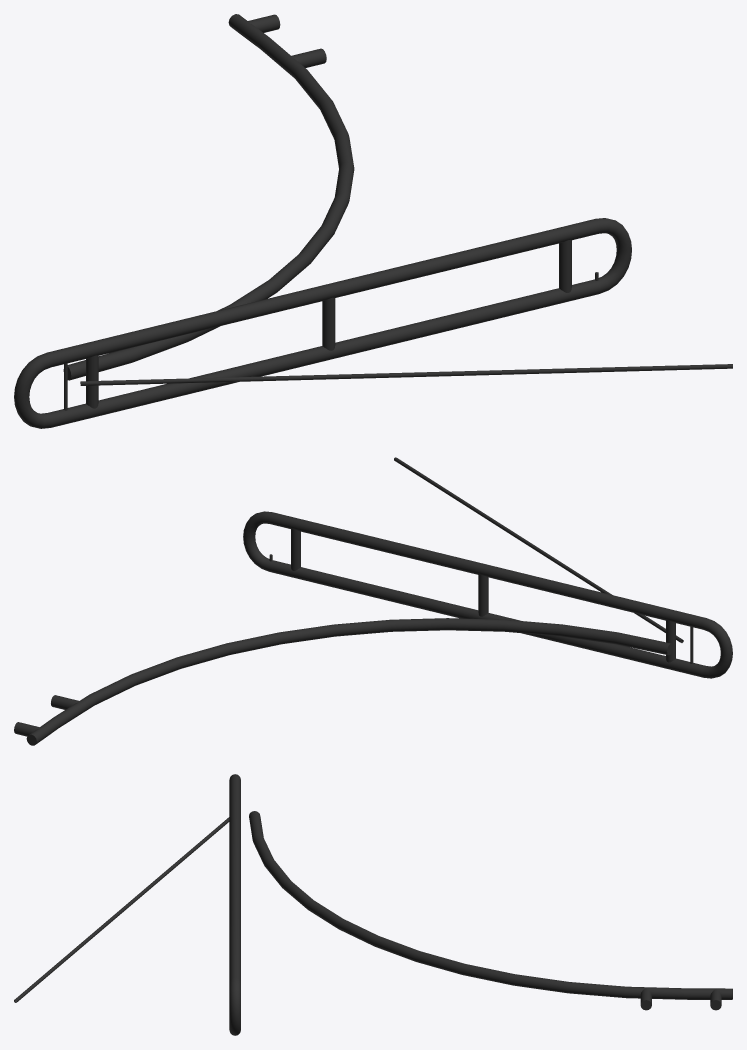
Rendered from Urbi 3_x2390_y-1051_ae_h11200.obj.
3 views of the same model, one above another, from view 1: azimuth 30°, elevation 25°; view 2: azimuth 150°, elevation 25°; view 3: azimuth 270°, elevation 25° (orthographic). The views are drawn at different scales.
Visible parts, largest first — view 1: Querträger_einfach_Querträger_einfach.002, Bogenausleger_Bogenausleger.003, Spannseil_Spannseil.002, Querträgerstreben_Cylinder.006; view 2: Querträger_einfach_Querträger_einfach.002, Bogenausleger_Bogenausleger.003, Spannseil_Spannseil.002, Querträgerstreben_Cylinder.006; view 3: Bogenausleger_Bogenausleger.003, Querträger_einfach_Querträger_einfach.002, Spannseil_Spannseil.002.
Part boxes in pixels (x1,y1,x2,y2): Querträger_einfach_Querträger_einfach.002: (14, 218, 631, 428); Bogenausleger_Bogenausleger.003: (63, 14, 354, 380); Spannseil_Spannseil.002: (80, 364, 732, 385); Querträgerstreben_Cylinder.006: (86, 240, 571, 408); Querträger_einfach_Querträger_einfach.002: (243, 511, 732, 678); Bogenausleger_Bogenausleger.003: (14, 618, 672, 745); Spannseil_Spannseil.002: (394, 457, 683, 642); Querträgerstreben_Cylinder.006: (291, 529, 675, 662); Bogenausleger_Bogenausleger.003: (249, 811, 732, 1010); Querträger_einfach_Querträger_einfach.002: (229, 774, 240, 1035); Spannseil_Spannseil.002: (14, 817, 229, 1002).
Size of the model in its own units: 2.77 by 0.3199 by 3.74.
Materials: 1 (1 with a texture image).
